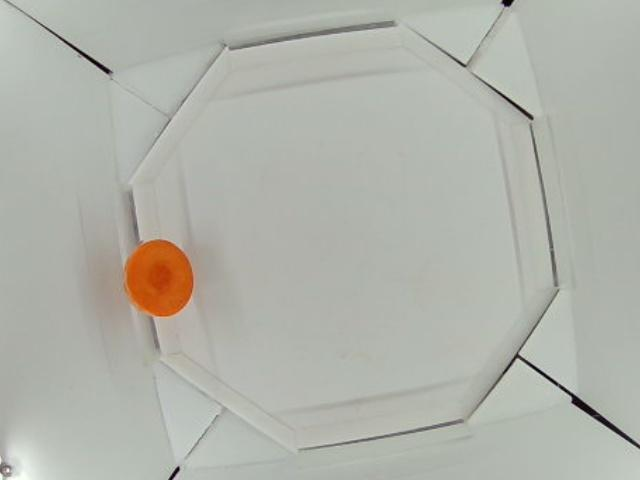Carrot: (125, 239, 196, 316)
